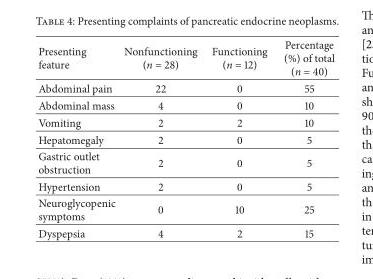table: (37, 36, 333, 240)
table column: (119, 36, 203, 240), (37, 36, 119, 240), (203, 36, 274, 240), (274, 36, 333, 240)
table column header: (37, 36, 333, 79)
table row: (37, 36, 333, 79), (37, 147, 333, 177), (37, 194, 333, 224), (37, 79, 333, 96), (37, 96, 333, 113), (37, 113, 333, 130), (37, 130, 333, 147), (37, 177, 333, 194), (37, 224, 333, 240)
